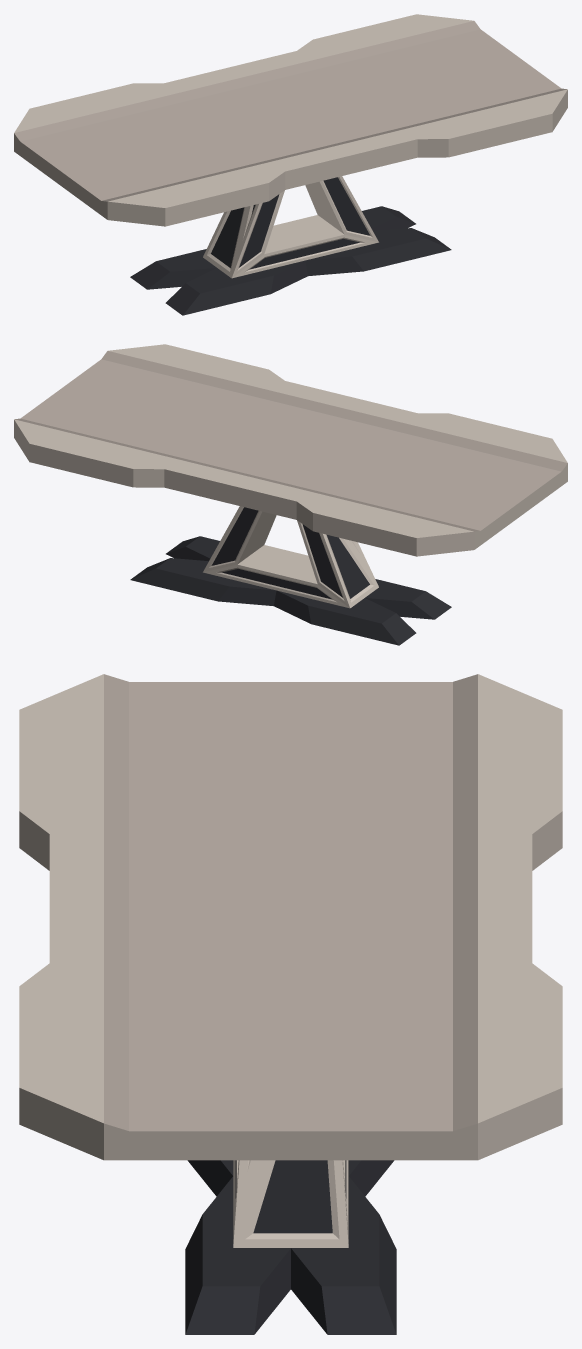
Rendered from SM_Coffee_Table.glb.
3 renders of one model, top to bottom at view 1: azimuth 30°, elevation 25°; view 2: azimuth 150°, elevation 25°; view 3: azimuth 270°, elevation 25°, orthographic. The views are drawn at different scales.
Parts seen in each view (by area): view 1: SM_Coffee_Table; view 2: SM_Coffee_Table; view 3: SM_Coffee_Table.
Part boxes in pixels (bbox=[...]): SM_Coffee_Table: bbox=[14, 14, 567, 315]; SM_Coffee_Table: bbox=[14, 344, 567, 645]; SM_Coffee_Table: bbox=[19, 674, 562, 1334].
Size of the model in its own units: 1.23 by 0.3876 by 0.6266.
1 material, 1 textured.
